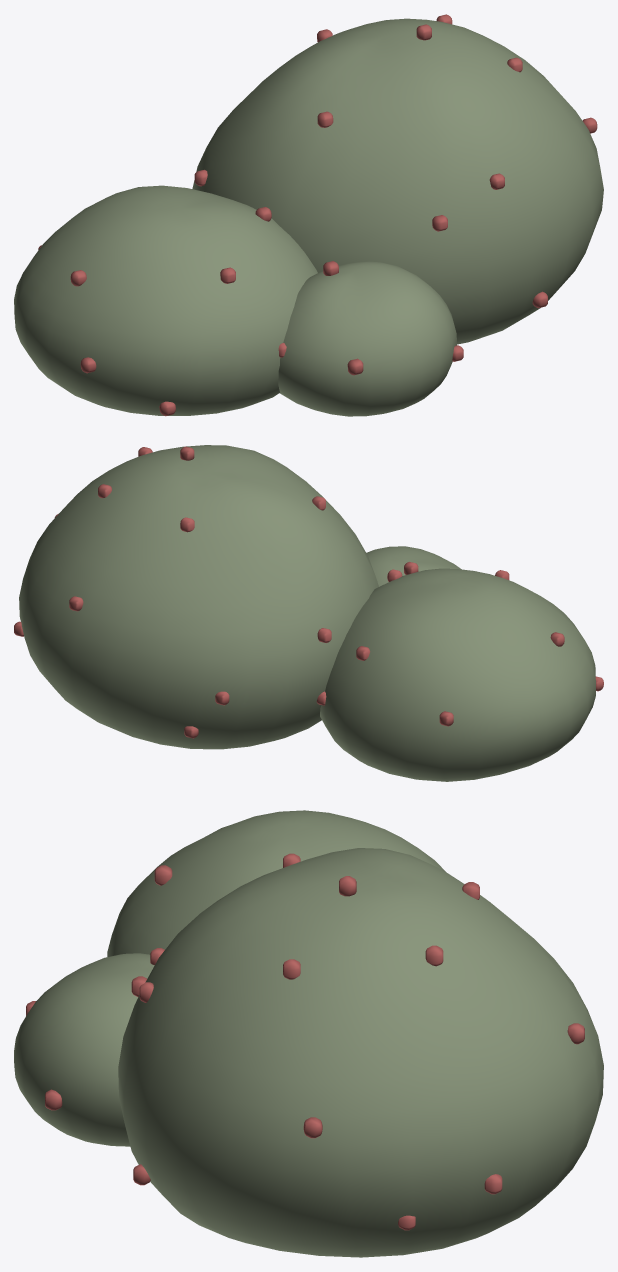
The model's file is Bushes.fbx.
The picture shows the model from 3 angles, top to bottom: view 1: azimuth 30°, elevation 25°; view 2: azimuth 150°, elevation 25°; view 3: azimuth 270°, elevation 25°; orthographic projection. The views are drawn at different scales.
Parts seen in each view (by area): view 1: Bushes; view 2: Bushes; view 3: Bushes.
Part boxes in pixels (x1,y1,x2,y2): Bushes: (14, 14, 603, 416); Bushes: (14, 445, 603, 781); Bushes: (14, 810, 603, 1257).
Size of the model in its own units: 6.38 by 2.99 by 4.61.
